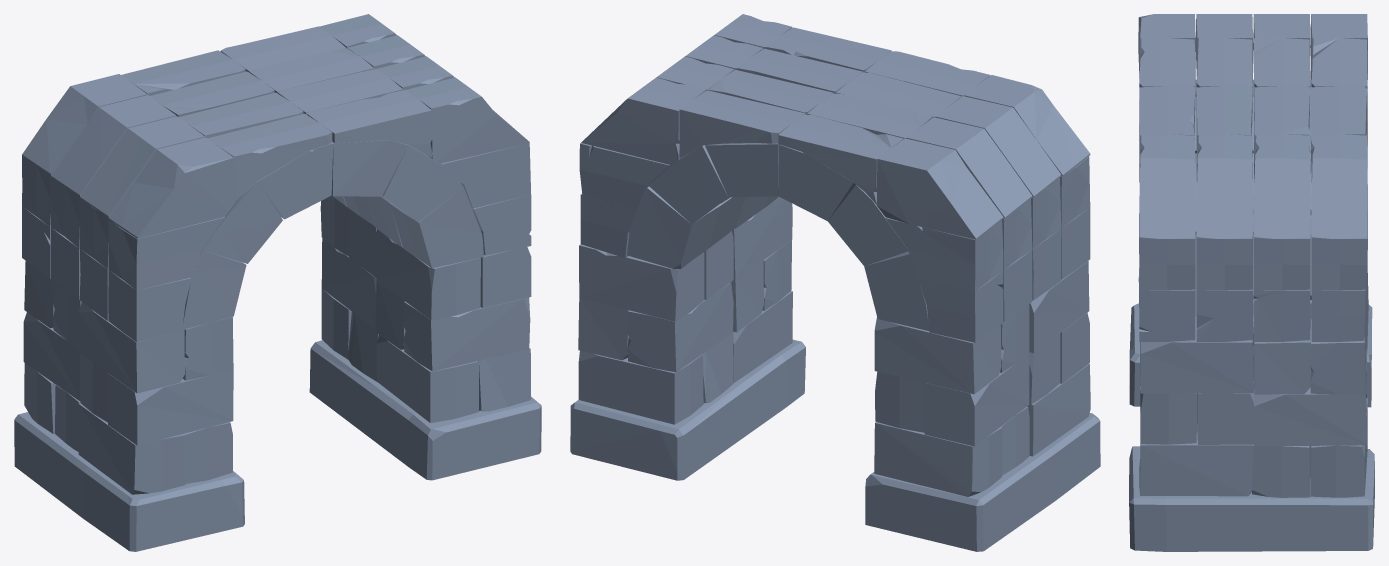
Rendered from Entrance.fbx.
3 views of the same model, side by side, from view 1: azimuth 30°, elevation 25°; view 2: azimuth 150°, elevation 25°; view 3: azimuth 270°, elevation 25° (orthographic).
Visible parts, largest first — view 1: DungeonEntrance; view 2: DungeonEntrance; view 3: DungeonEntrance.
Boxes of the visible parts, x1=… form: DungeonEntrance: x1=14, y1=14, x2=541, y2=551; DungeonEntrance: x1=570, y1=14, x2=1100, y2=551; DungeonEntrance: x1=1129, y1=14, x2=1374, y2=551.
Size of the model in its own units: 838 by 712 by 434.
